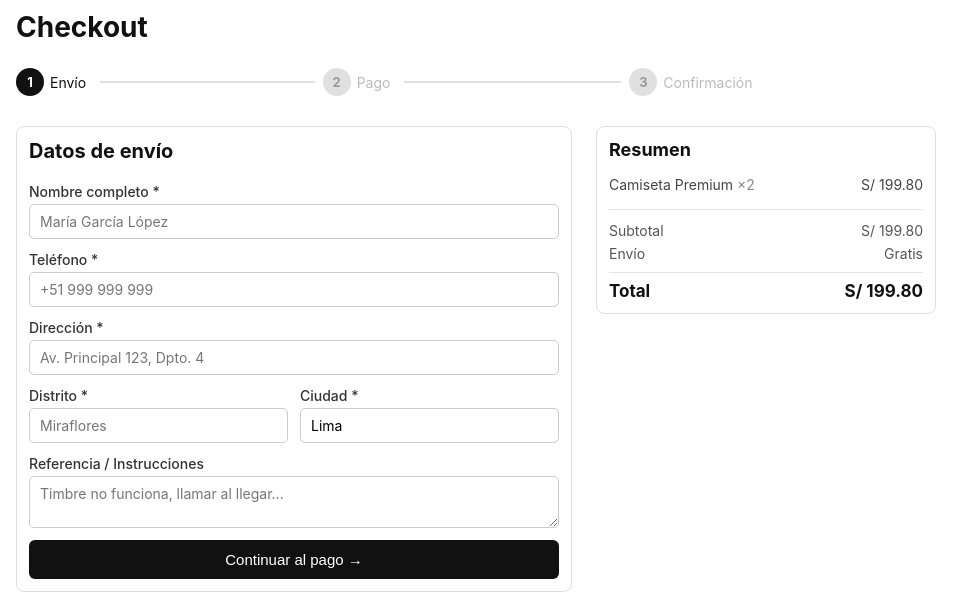
it: CheckoutPage › advances to payment step after completing delivery form
Expected: the heading "Datos de envío" is shown, [29,139,173,163]
In the field with placeholder "María García López": point(294, 222) [29,204,559,239], type "Ana Torres"
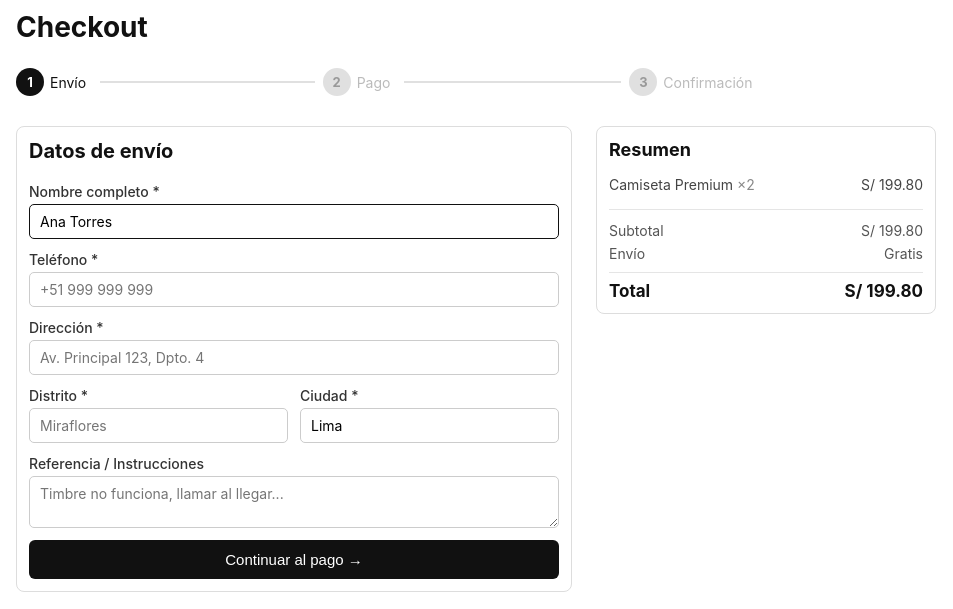
In the field with placeholder "+51 999 999 999": point(294, 290) [29,272,559,307], type "999888777"
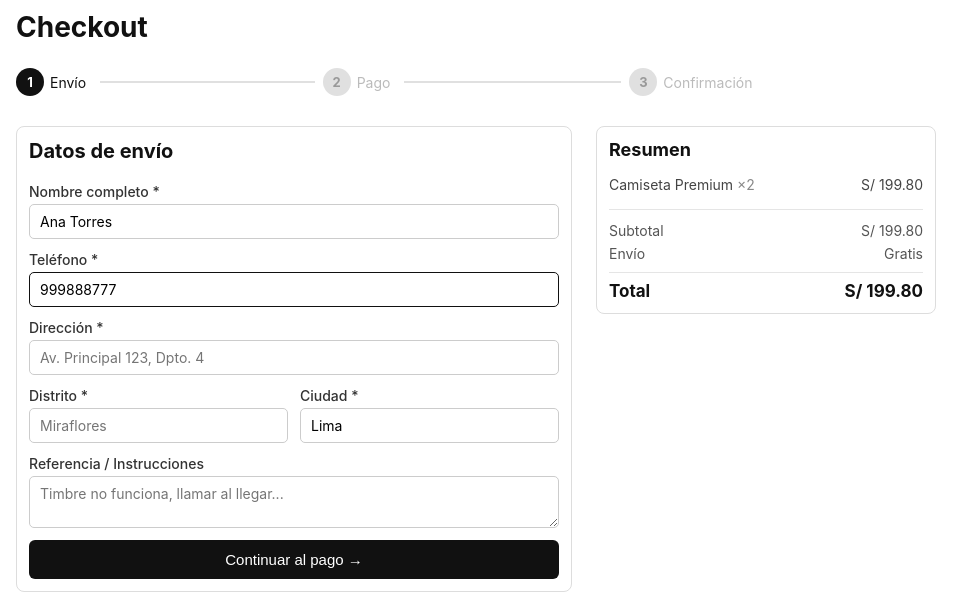
In the field with placeholder "Av. Principal 123, Dpto. 4": point(294, 358) [29,340,559,375], type "Calle Los Álamos 456"
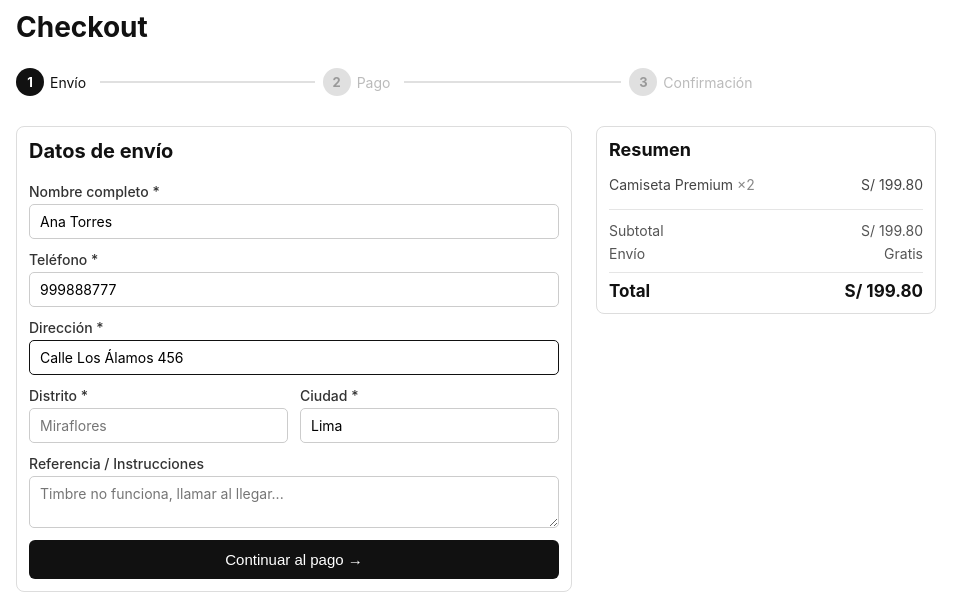
In the field with placeholder "Miraflores": point(158, 426) [29,408,288,443], type "San Isidro"
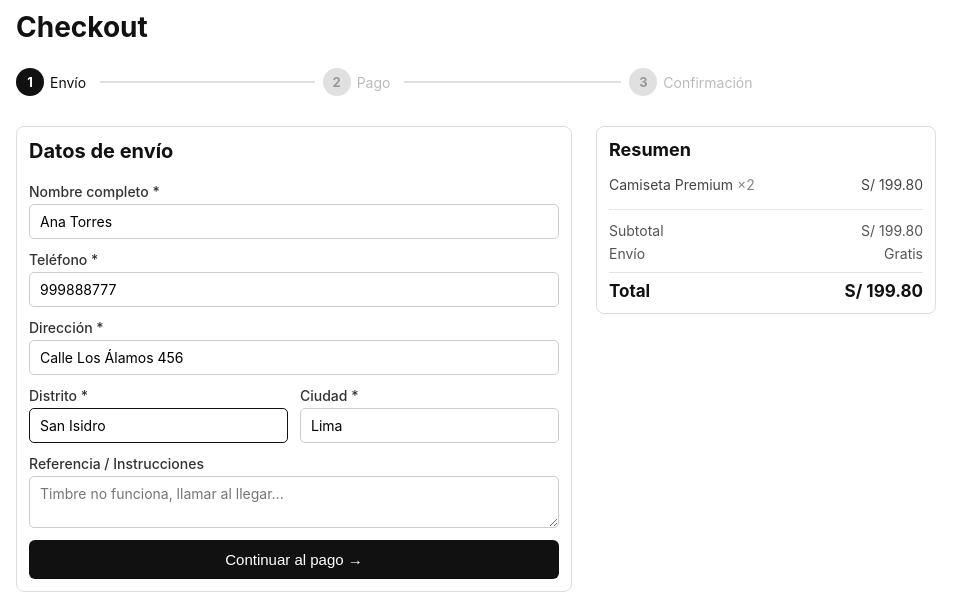
Click the button "Continuar al pago →": point(294, 560) [29,540,559,579]
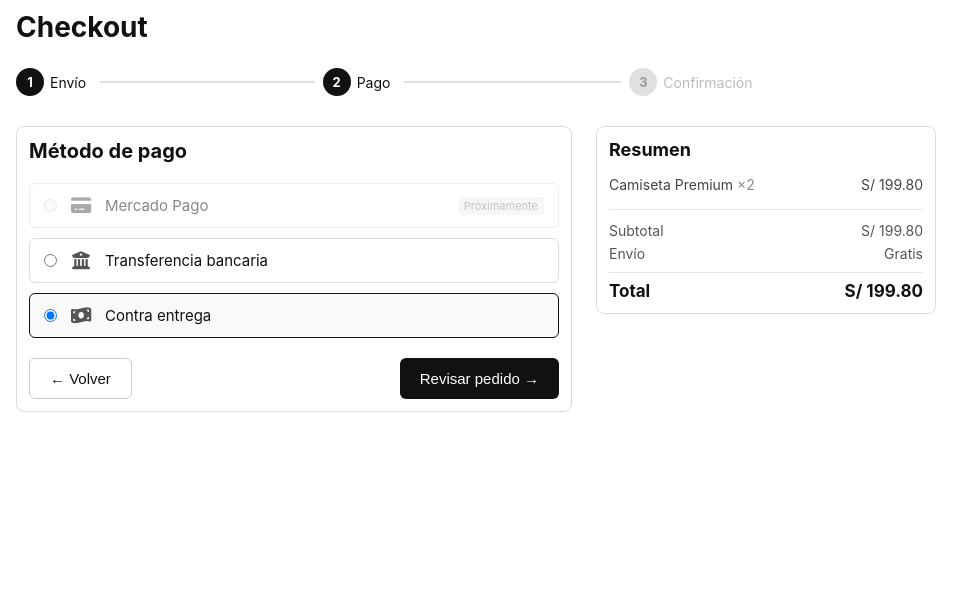
Expected: the heading "Método de pago" is shown, [29,139,187,163]
